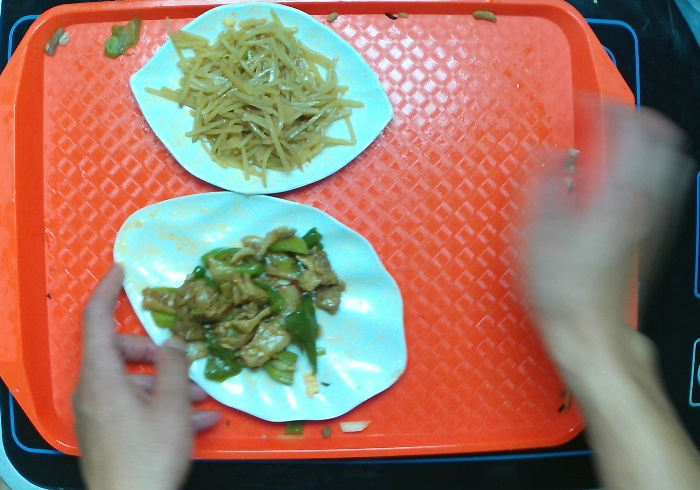RJxy-Bai_Ye_Pan: (116, 188, 420, 431)
RJxy-Da_Du_Pan: (129, 1, 396, 197)
